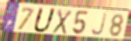5: (72, 10, 90, 37)
7: (16, 7, 35, 32)
8: (109, 14, 125, 37)
J: (90, 12, 108, 37)
U: (31, 6, 57, 34)
X: (51, 8, 73, 36)
